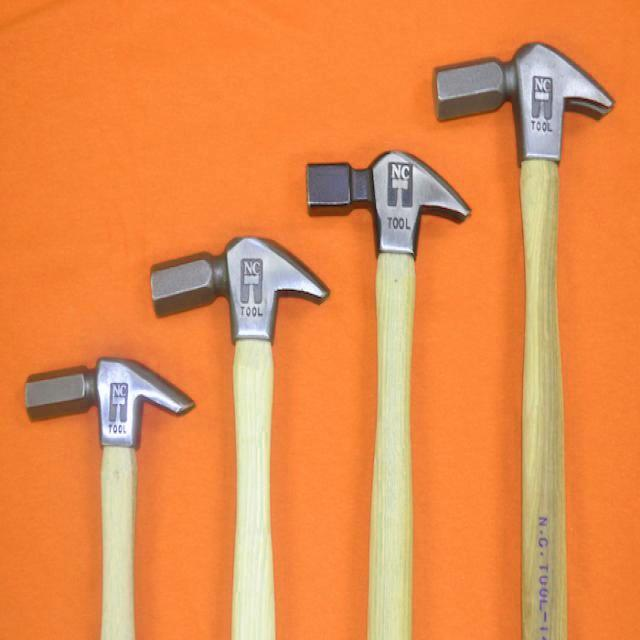hammer: (428, 36, 618, 640), (304, 141, 476, 640), (146, 226, 340, 640), (19, 333, 210, 640)
